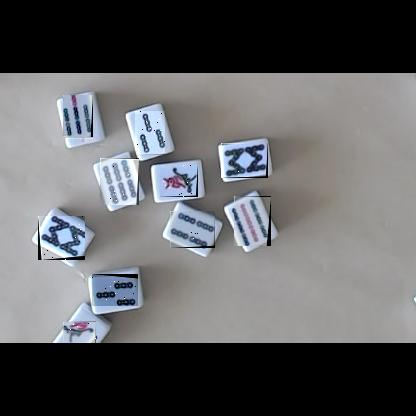1s: (160, 165, 198, 197), (63, 321, 96, 343)
3s: (92, 274, 138, 306), (135, 111, 165, 155)
4s: (170, 211, 215, 248)
6s: (100, 158, 139, 205)
7s: (63, 96, 93, 142)
8s: (38, 216, 85, 260), (221, 143, 268, 178)
9s: (234, 196, 271, 246)
